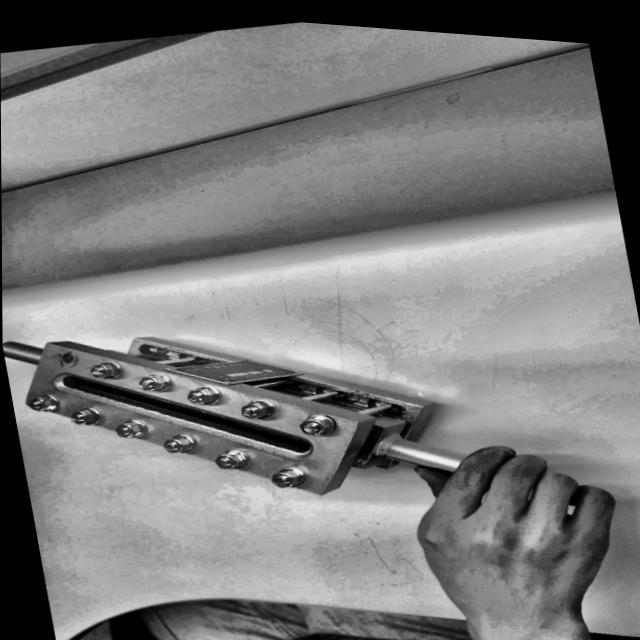ShuiWeiQi_11: (1, 244, 429, 558)
